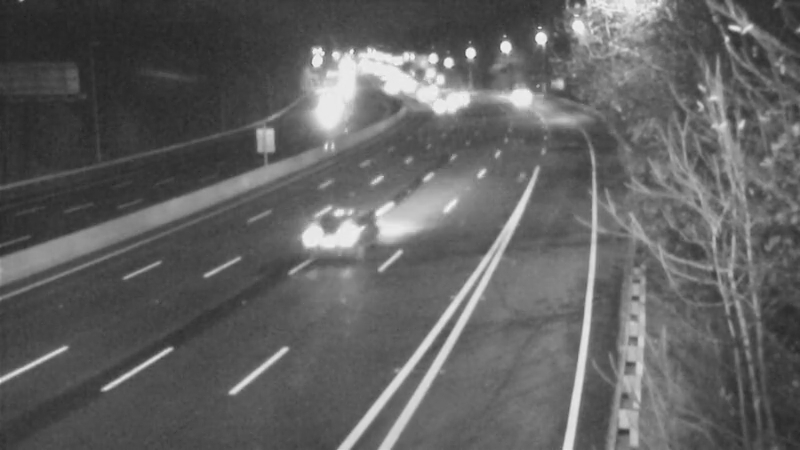vehicle: (296, 188, 376, 268), (495, 71, 545, 121), (436, 71, 486, 121), (414, 79, 464, 129)
